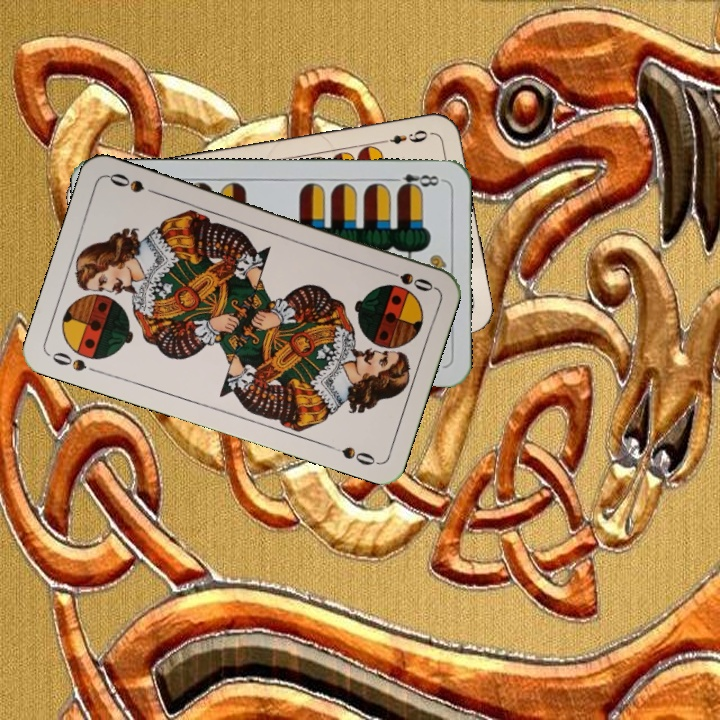E8: (386, 170, 445, 193)
E9: (376, 125, 430, 147)
SO: (379, 265, 436, 294), (48, 348, 103, 377)
